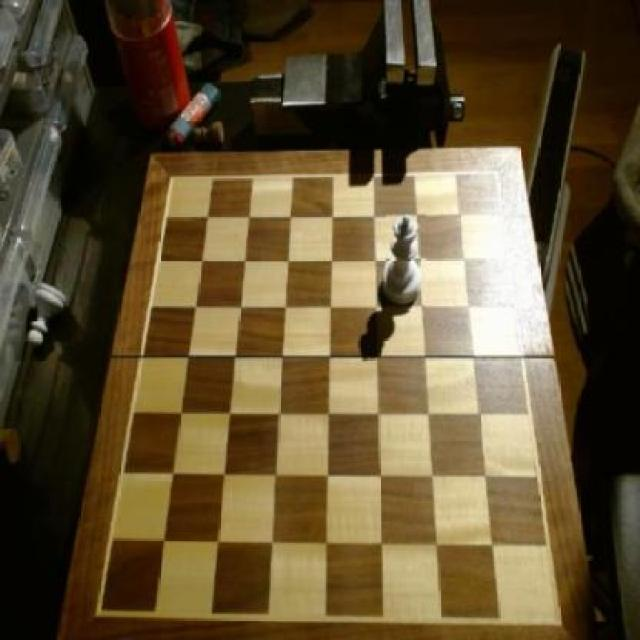white-pawn: (384, 210, 426, 312)
